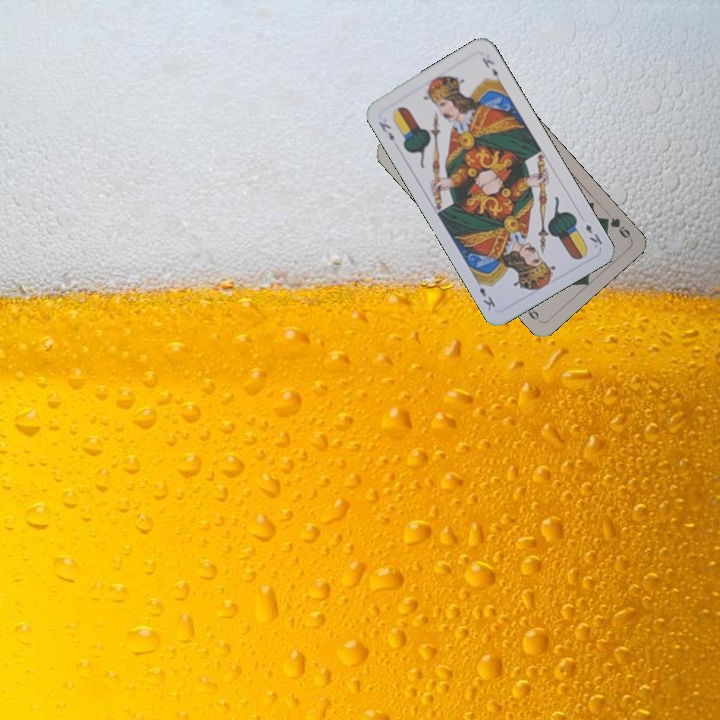EK: (581, 220, 605, 251), (374, 118, 397, 143)
G9: (597, 213, 634, 242)
